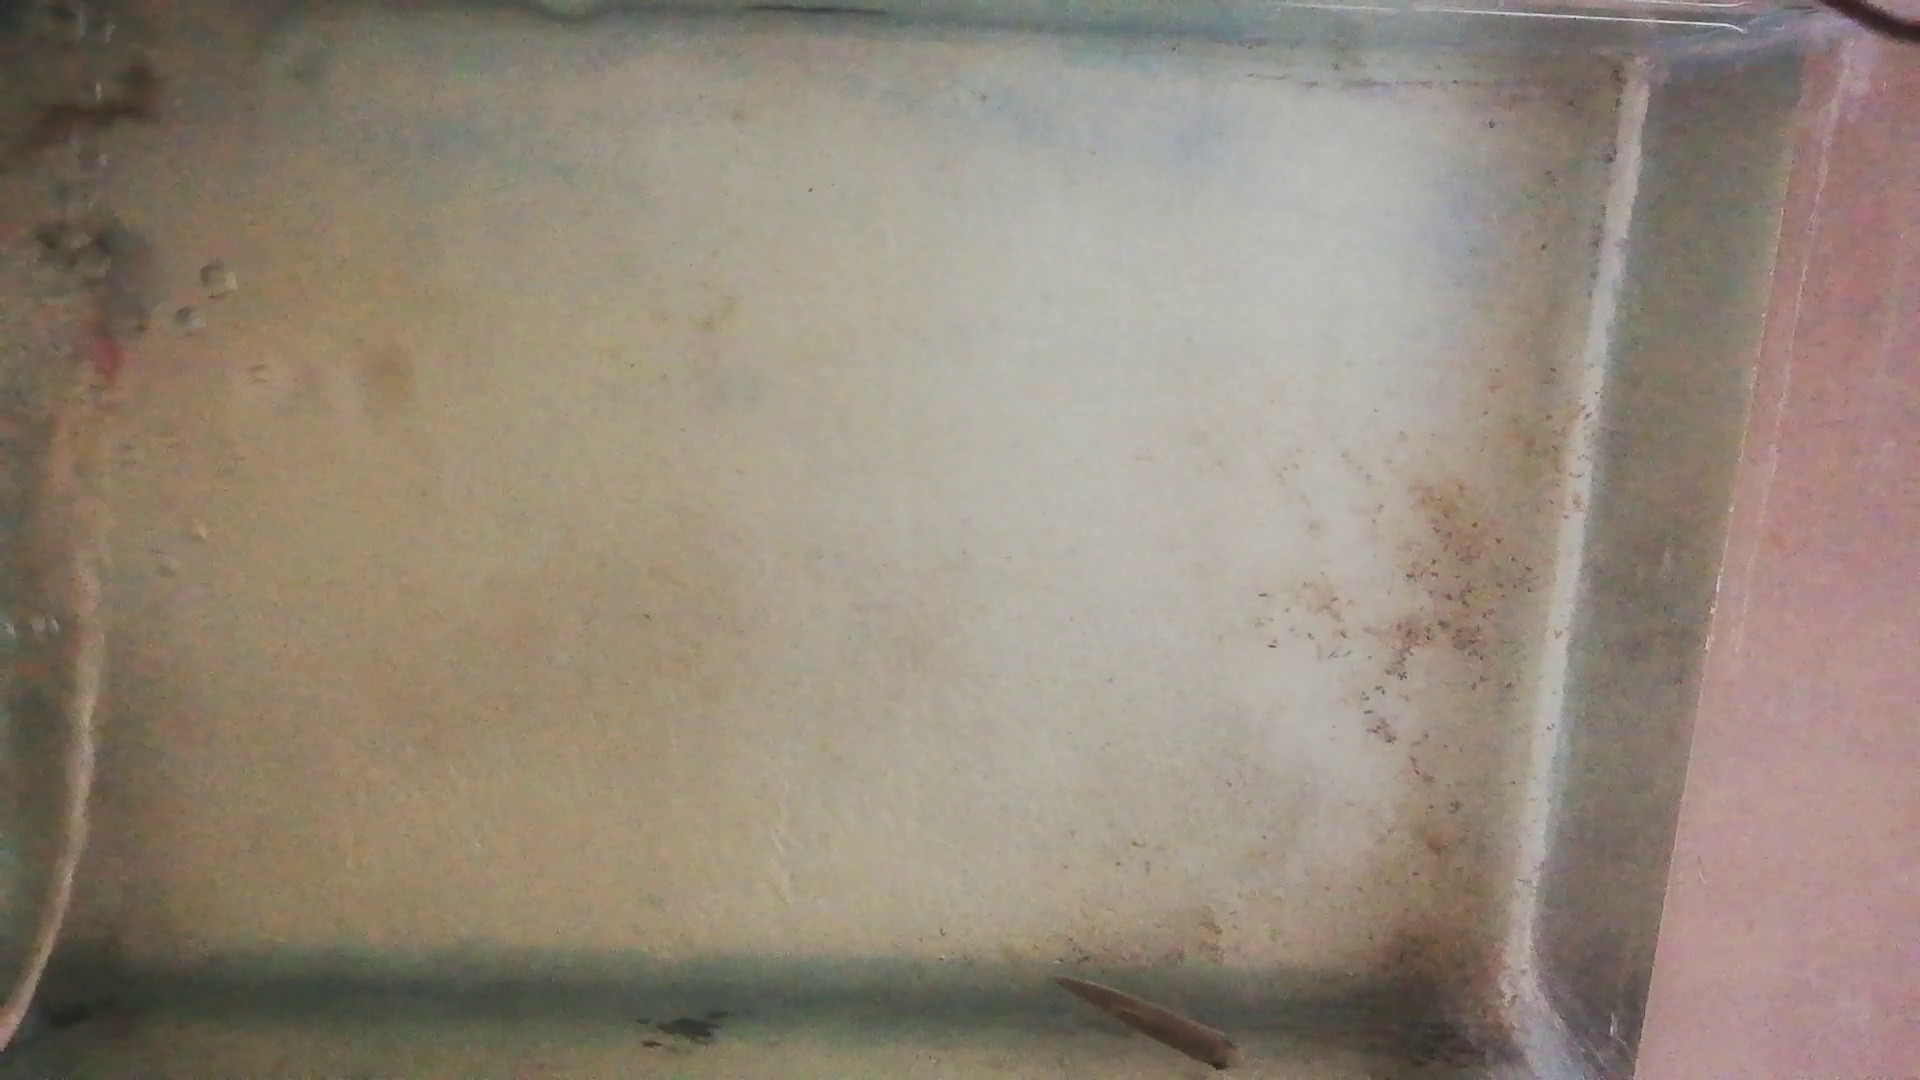fish: (1043, 971, 1244, 1069), (9, 65, 164, 165)
